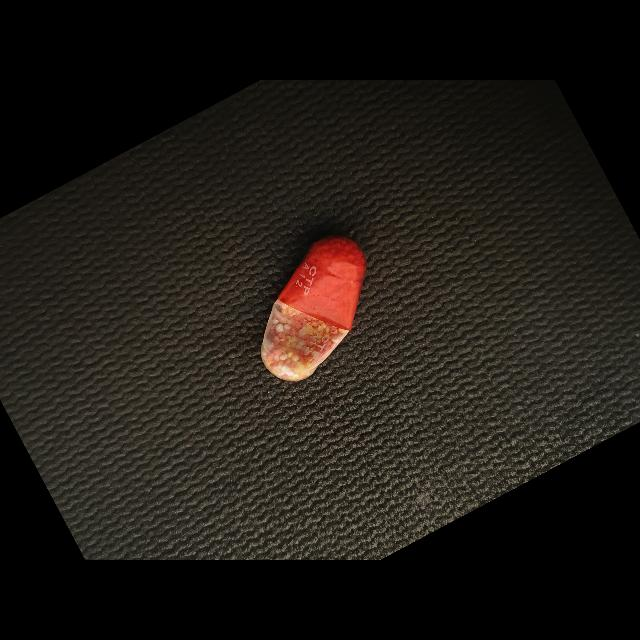Defective Capsule: (261, 235, 367, 381)
